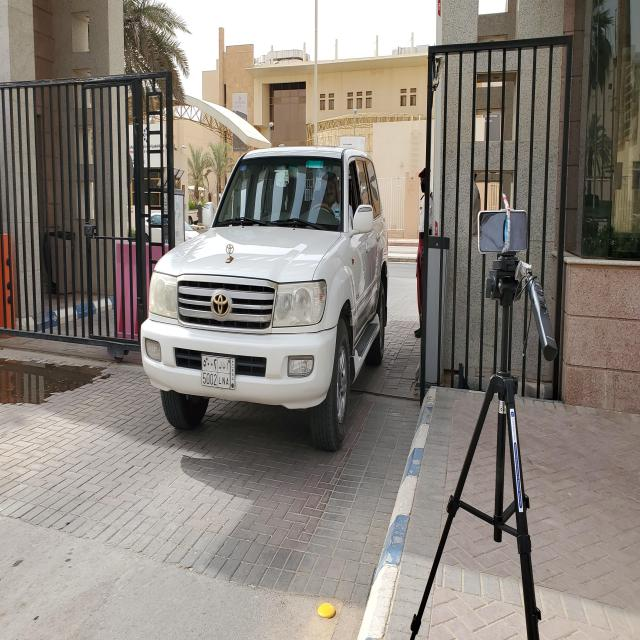license_plate: (201, 353, 236, 391)
